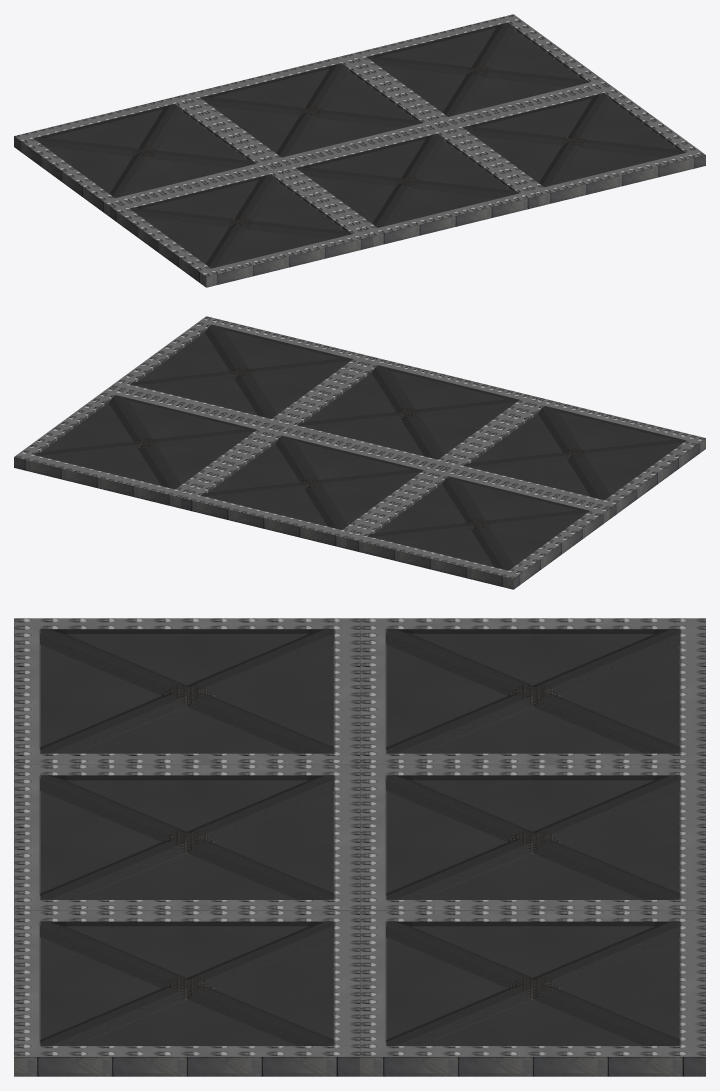
Rendered from UMOD_Prop-Square-2x3_.fbx.
3 renders of one model, top to bottom at view 1: azimuth 30°, elevation 25°; view 2: azimuth 150°, elevation 25°; view 3: azimuth 270°, elevation 25°, orthographic. The views are drawn at different scales.
Visible parts, largest first — view 1: pCube6, pCube7, pCube11, pCube8, pCube10, pCube9; view 2: pCube8, pCube9, pCube10, pCube6, pCube11, pCube7; view 3: pCube10, pCube11, pCube6, pCube7, pCube8, pCube9.
Part boxes in pixels (<box>): pCube6: <box>110,166,372,287</box>; pCube7: <box>277,125,539,246</box>; pCube11: <box>443,84,705,206</box>; pCube8: <box>14,95,276,216</box>; pCube10: <box>347,14,609,124</box>; pCube9: <box>181,55,442,165</box>; pCube8: <box>347,468,609,589</box>; pCube9: <box>180,427,442,548</box>; pCube10: <box>14,386,276,508</box>; pCube6: <box>443,397,705,518</box>; pCube11: <box>110,316,372,426</box>; pCube7: <box>277,357,538,467</box>; pCube10: <box>360,910,705,1076</box>; pCube11: <box>14,910,359,1076</box>; pCube6: <box>14,618,359,764</box>; pCube7: <box>14,764,359,910</box>; pCube8: <box>360,618,705,764</box>; pCube9: <box>360,764,705,910</box>.
Size of the model in its own units: 24 by 0.5 by 16.
1 material, 1 textured.
